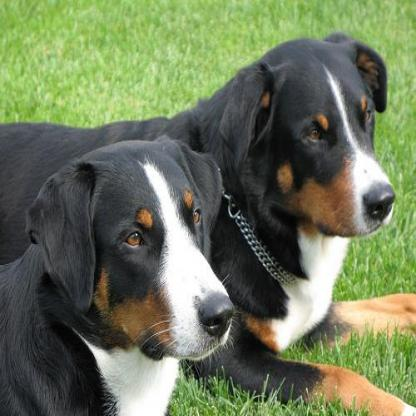Appenzeller: (0, 30, 414, 414), (0, 136, 233, 414)
